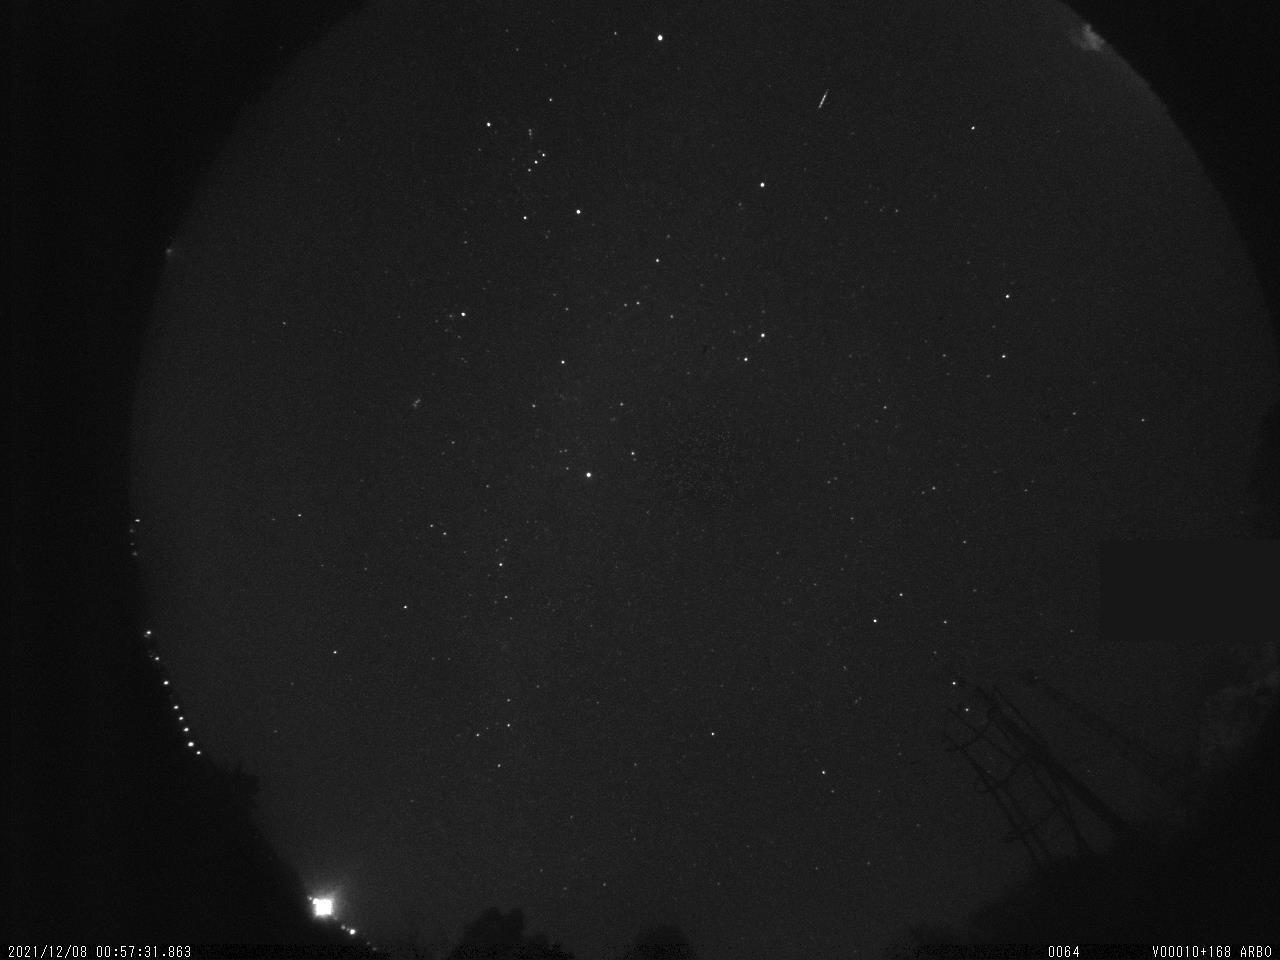Meteor: (813, 85, 836, 116)
